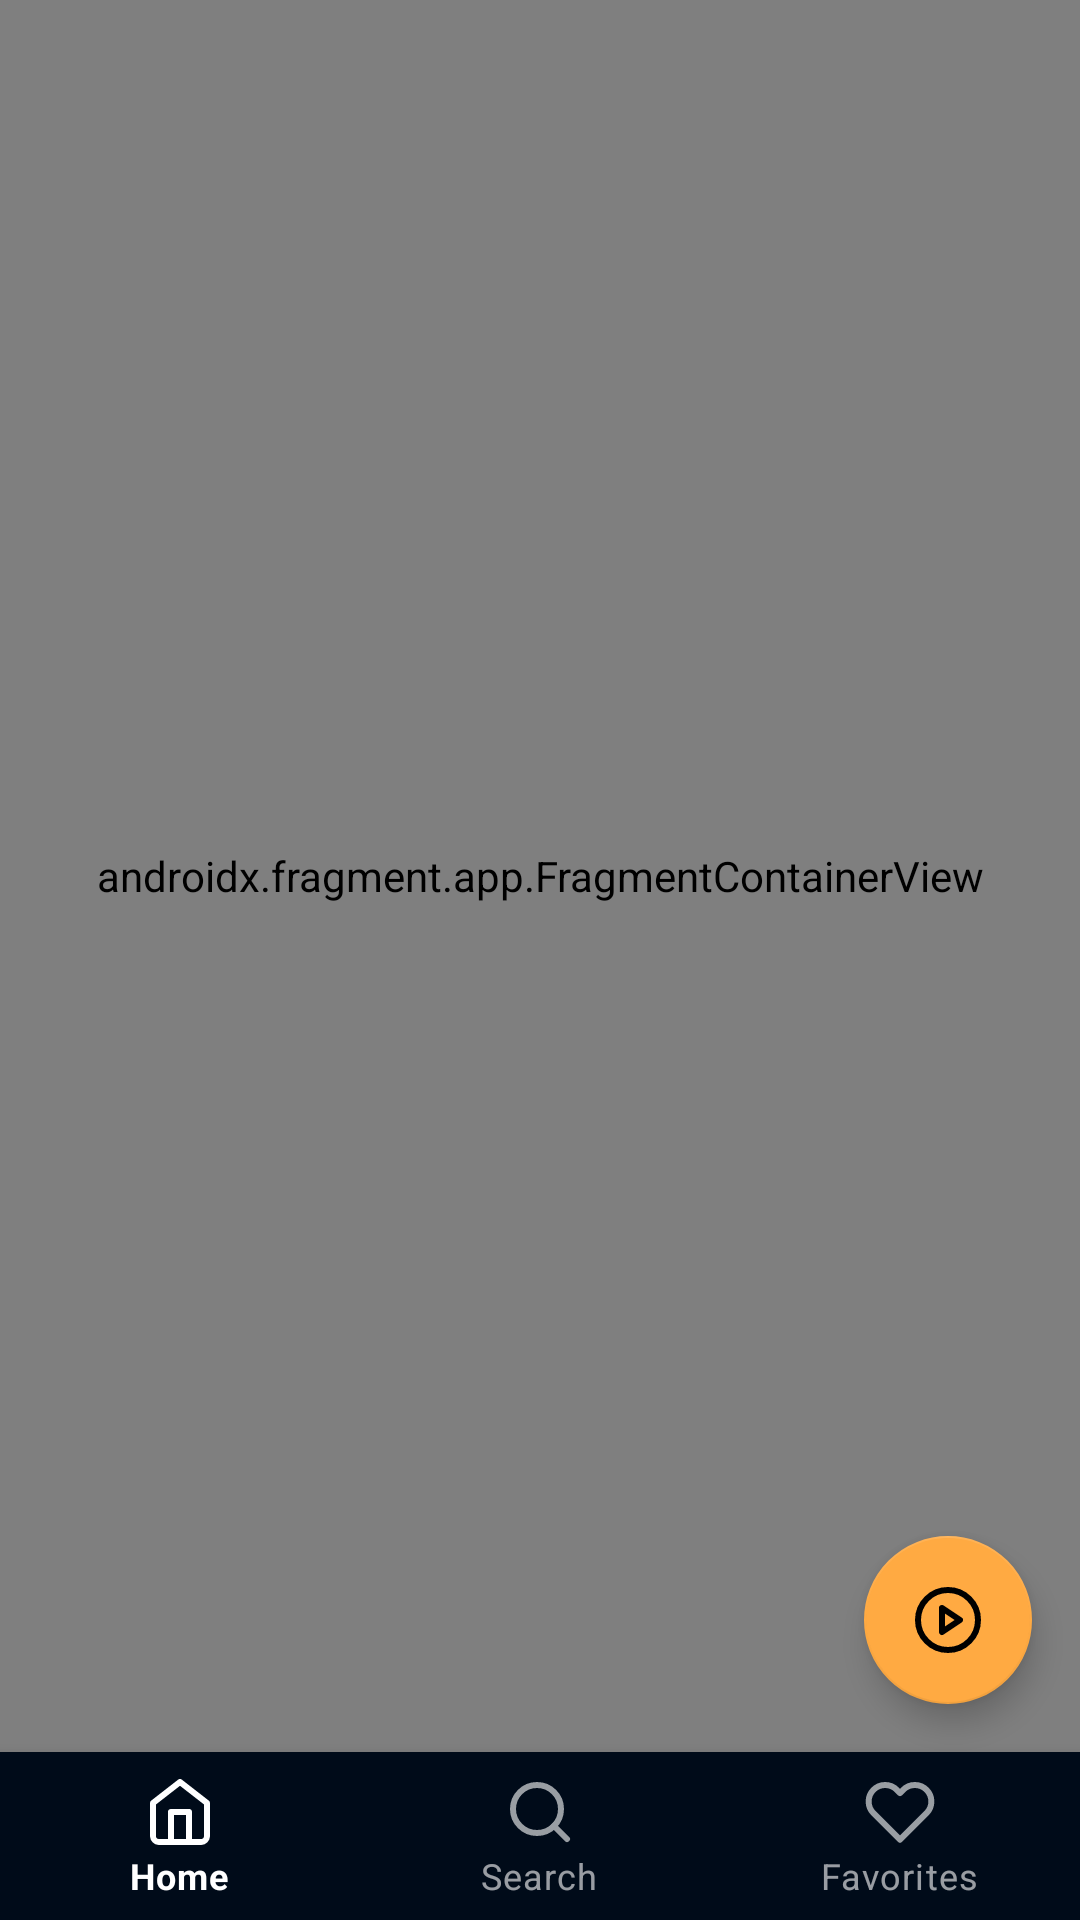

Named icons in this screenshot (1080*1920) and their centers, (x,y):
play circle: (948,1620)
